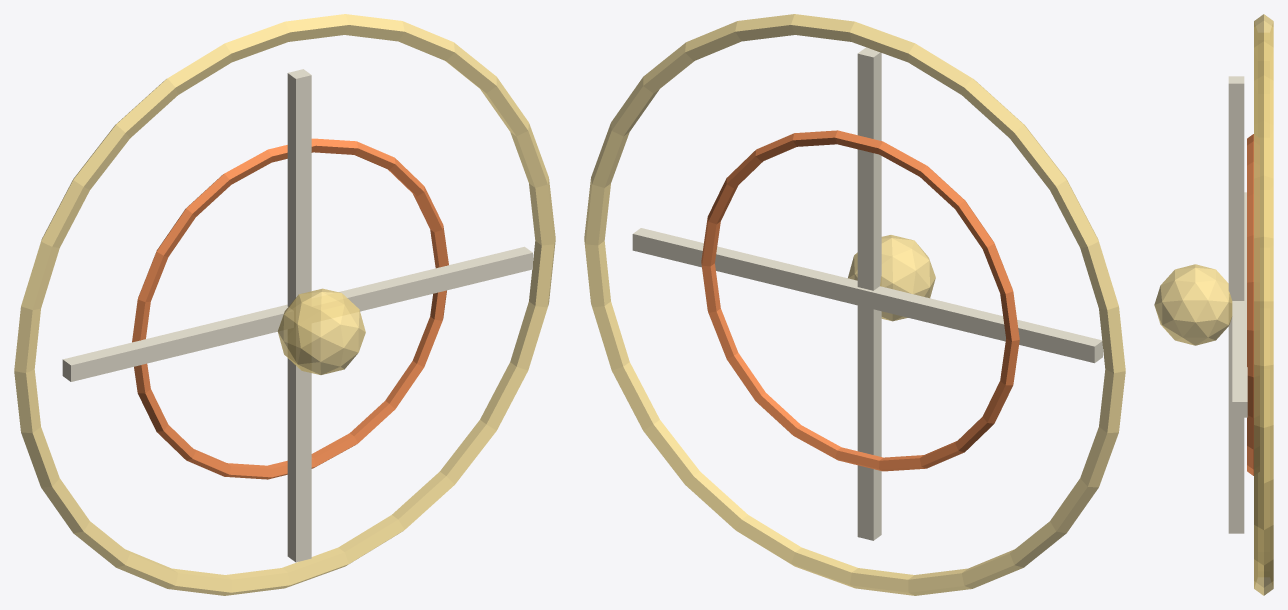
The model's file is 06_combat_flow_anchor.glb.
3 views of the same model, side by side, from view 1: azimuth 30°, elevation 25°; view 2: azimuth 150°, elevation 25°; view 3: azimuth 270°, elevation 25° (orthographic). The views are drawn at different scales.
Visible parts, largest first — view 1: flow_outer_ring, flow_inner_ring, flow_lane_cross, flow_lane_forward, perfect_flow_core; view 2: flow_outer_ring, flow_inner_ring, flow_lane_forward, flow_lane_cross, perfect_flow_core; view 3: flow_outer_ring, flow_lane_cross, perfect_flow_core, flow_inner_ring, flow_lane_forward.
Part boxes in pixels (box(x1,y1,x2,y2)): flow_outer_ring: box(14, 14, 555, 595); flow_inner_ring: box(132, 138, 448, 479); flow_lane_cross: box(287, 69, 311, 562); flow_lane_forward: box(62, 246, 532, 381); perfect_flow_core: box(277, 288, 365, 374); flow_outer_ring: box(584, 14, 1125, 595); flow_inner_ring: box(701, 130, 1019, 471); flow_lane_forward: box(632, 228, 1102, 363); flow_lane_cross: box(857, 47, 881, 540); perfect_flow_core: box(848, 235, 935, 321); flow_outer_ring: box(1254, 14, 1273, 595); flow_lane_cross: box(1228, 76, 1244, 533); perfect_flow_core: box(1154, 264, 1232, 345); flow_inner_ring: box(1247, 134, 1259, 475); flow_lane_forward: box(1232, 192, 1247, 417).
Size of the model in its own units: 1.7 by 1.7 by 0.3485.
